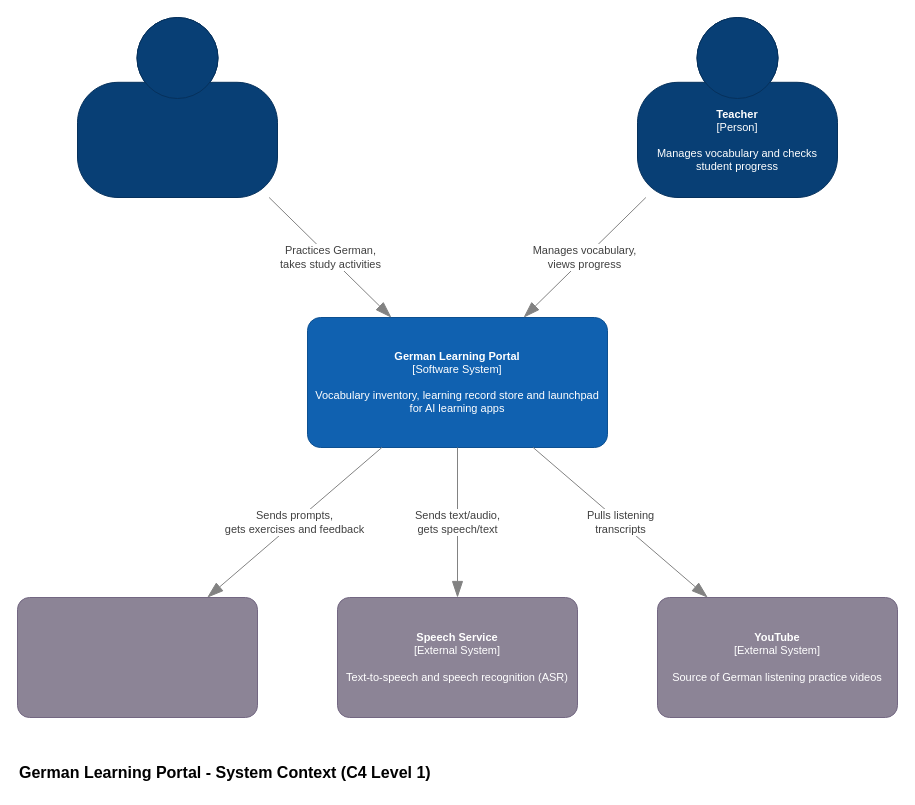
Some shapes in this 915 by 805 pixel diagram are drawn without their labels. The shapes that lost their labels are listed below. From the top down, each one's box as (x1, y1, x2, y2) in pixels, then its label:
(76, 16, 278, 198): Student [Person] Learns German between instructor-led classes
(16, 596, 258, 718): LLM API [External System] Generates exercises, hints and feedback
